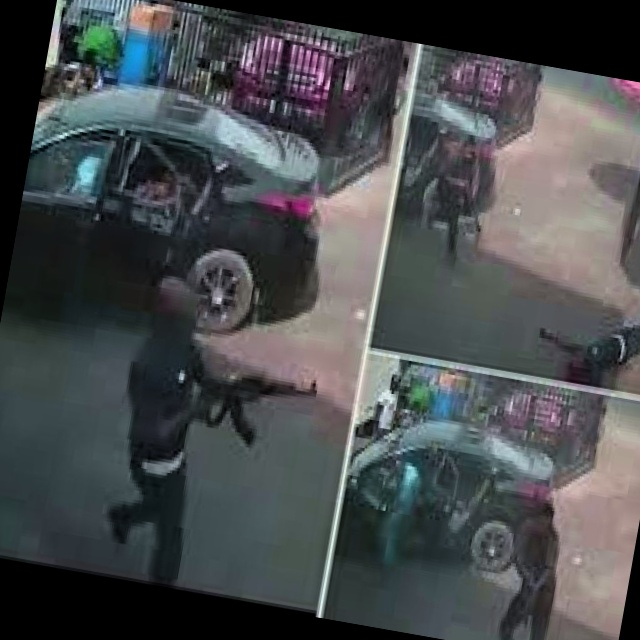gun: (174, 351, 322, 458), (451, 173, 497, 240)
